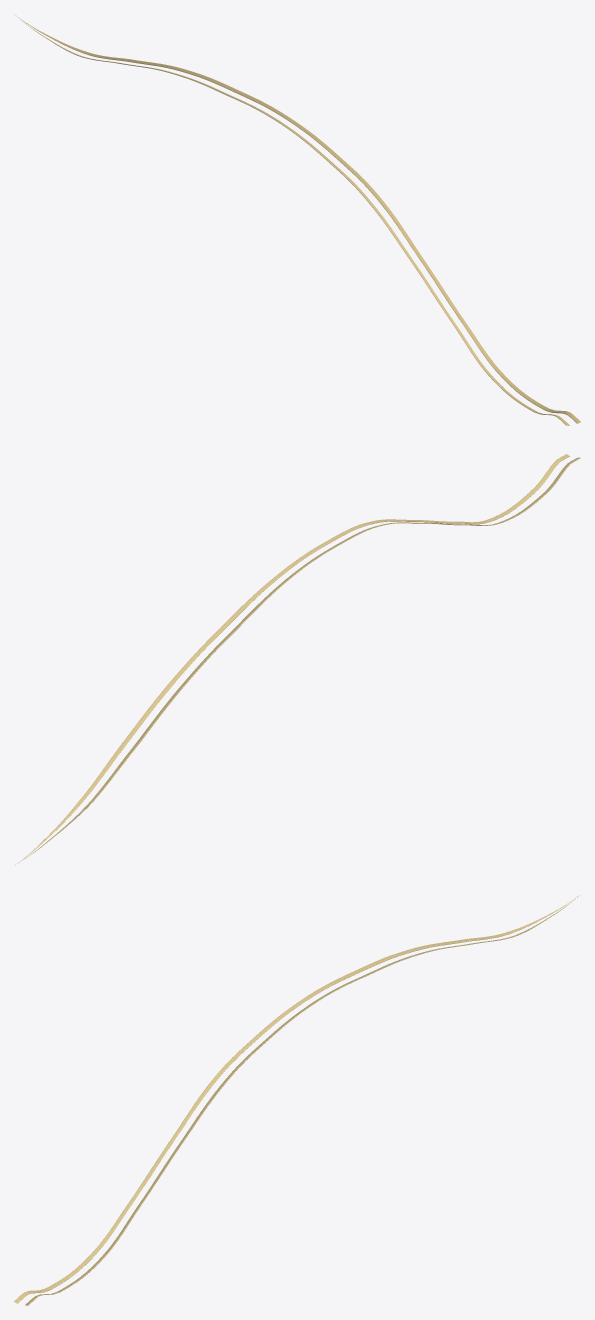
3 views of the same model, one above another, from view 1: azimuth 30°, elevation 25°; view 2: azimuth 150°, elevation 25°; view 3: azimuth 330°, elevation 25° (orthographic).
Parts seen in each view (by area): view 1: 脊髓丘脑前束; view 2: 脊髓丘脑前束; view 3: 脊髓丘脑前束.
Part boxes in pixels (bbox=[...]): 脊髓丘脑前束: bbox=[14, 14, 580, 425]; 脊髓丘脑前束: bbox=[14, 454, 580, 865]; 脊髓丘脑前束: bbox=[14, 895, 579, 1305].
Size of the model in its own units: 0.0109 by 0.0755 by 0.7203.
